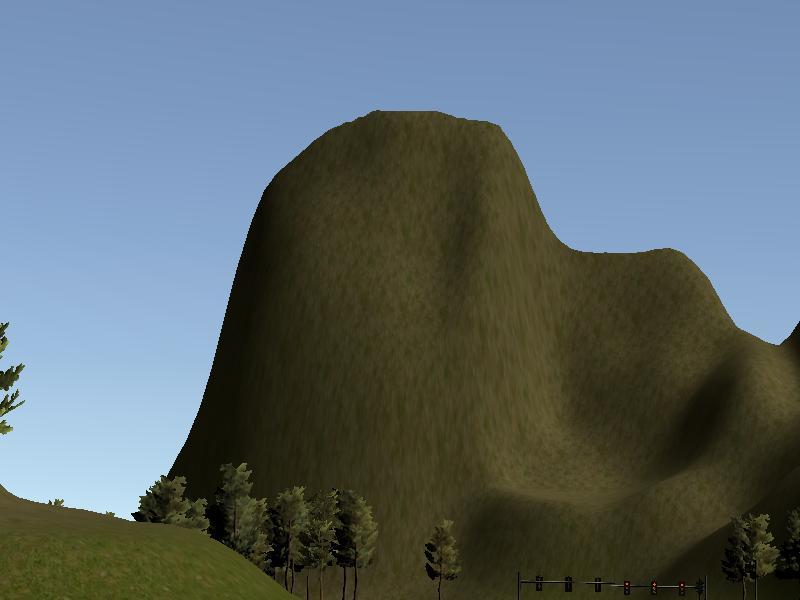Red: (678, 580, 686, 597), (624, 579, 631, 597), (650, 580, 657, 597)
